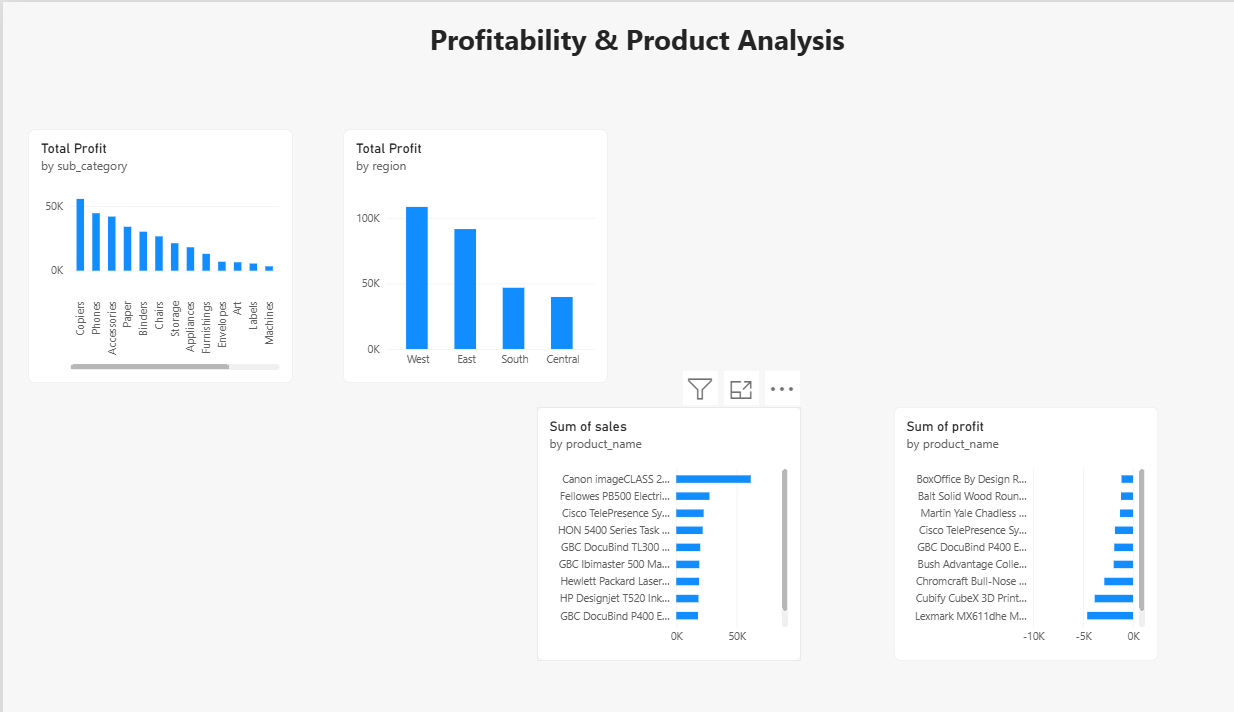

The page's visual inventory and layout, read from the dashboard file:
{"tool":"powerbi","page":{"name":"Profitability & Products","canvas":[1920,1080],"ordinal":1},"visuals":[{"type":"textbox","box":[538,24,616,256],"z":0},{"type":"columnChart","fields":{"Category":["company_insights_360 superstore_sales.sub_category"],"Y":["company_insights_360 superstore_sales.Total Profit"]},"box":[34,170,352,338],"z":1},{"type":"columnChart","fields":{"Category":["company_insights_360 superstore_sales.region"],"Y":["company_insights_360 superstore_sales.Total Profit"]},"box":[454,170,352,338],"z":2},{"type":"clusteredBarChart","fields":{"Category":["company_insights_360 superstore_sales.product_name"],"Y":["Sum(company_insights_360 superstore_sales.sales)"]},"box":[712,540,352,338],"z":3},{"type":"clusteredBarChart","fields":{"Category":["company_insights_360 superstore_sales.product_name"],"Y":["Sum(company_insights_360 superstore_sales.profit)"]},"box":[1188,540,352,338],"z":4}]}

Visuals, with their boxes in screenshot pixels (x1, y1, x2, y2), scaled from the page's 1920x1080 canvas onto the 1234x712 screenshot:
textbox: (x1=346, y1=16, x2=742, y2=185)
columnChart - company_insights_360 superstore_sales.sub_category x company_insights_360 superstore_sales.Total Profit: (x1=22, y1=112, x2=248, y2=335)
columnChart - company_insights_360 superstore_sales.region x company_insights_360 superstore_sales.Total Profit: (x1=292, y1=112, x2=518, y2=335)
clusteredBarChart - company_insights_360 superstore_sales.product_name x Sum(company_insights_360 superstore_sales.sales): (x1=458, y1=356, x2=684, y2=579)
clusteredBarChart - company_insights_360 superstore_sales.product_name x Sum(company_insights_360 superstore_sales.profit): (x1=764, y1=356, x2=990, y2=579)
